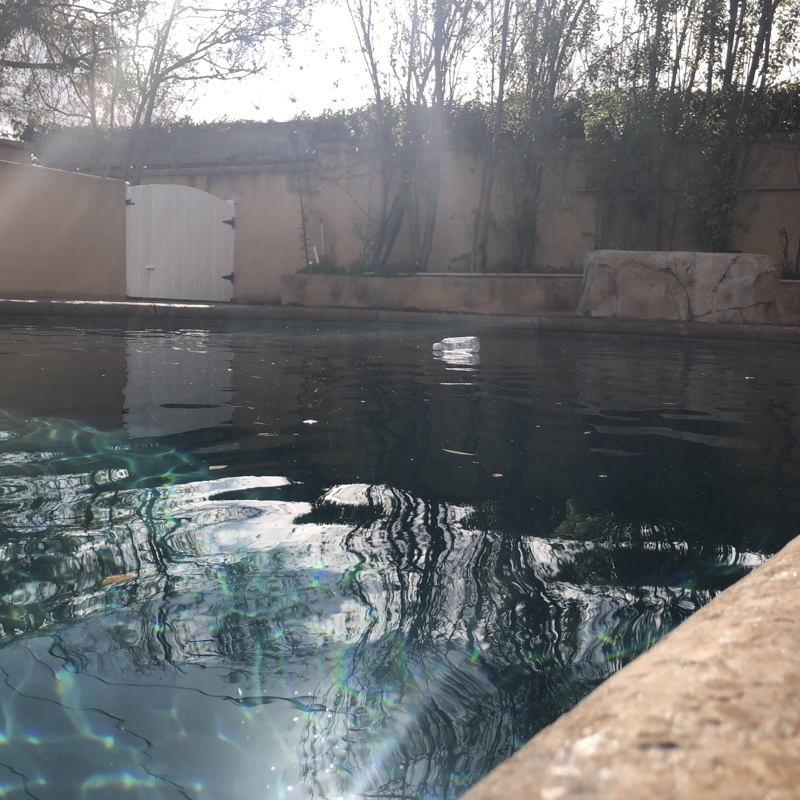Plastic Bottle: (433, 335, 479, 353)
